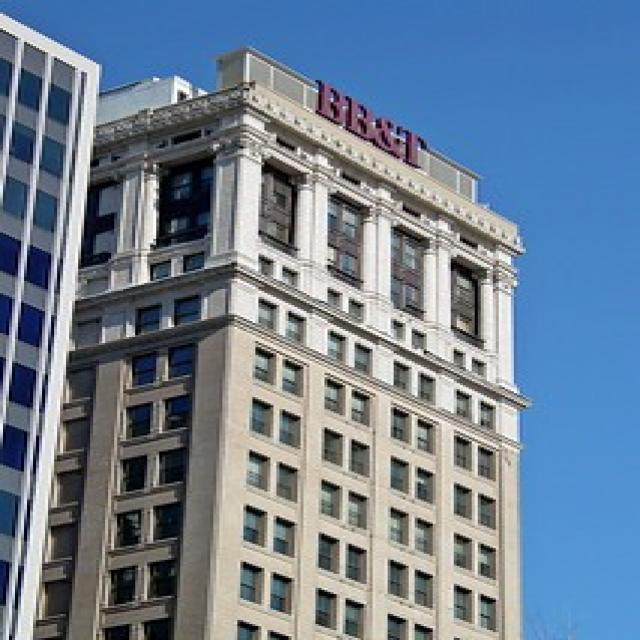Normal_building: (74, 42, 530, 640)
